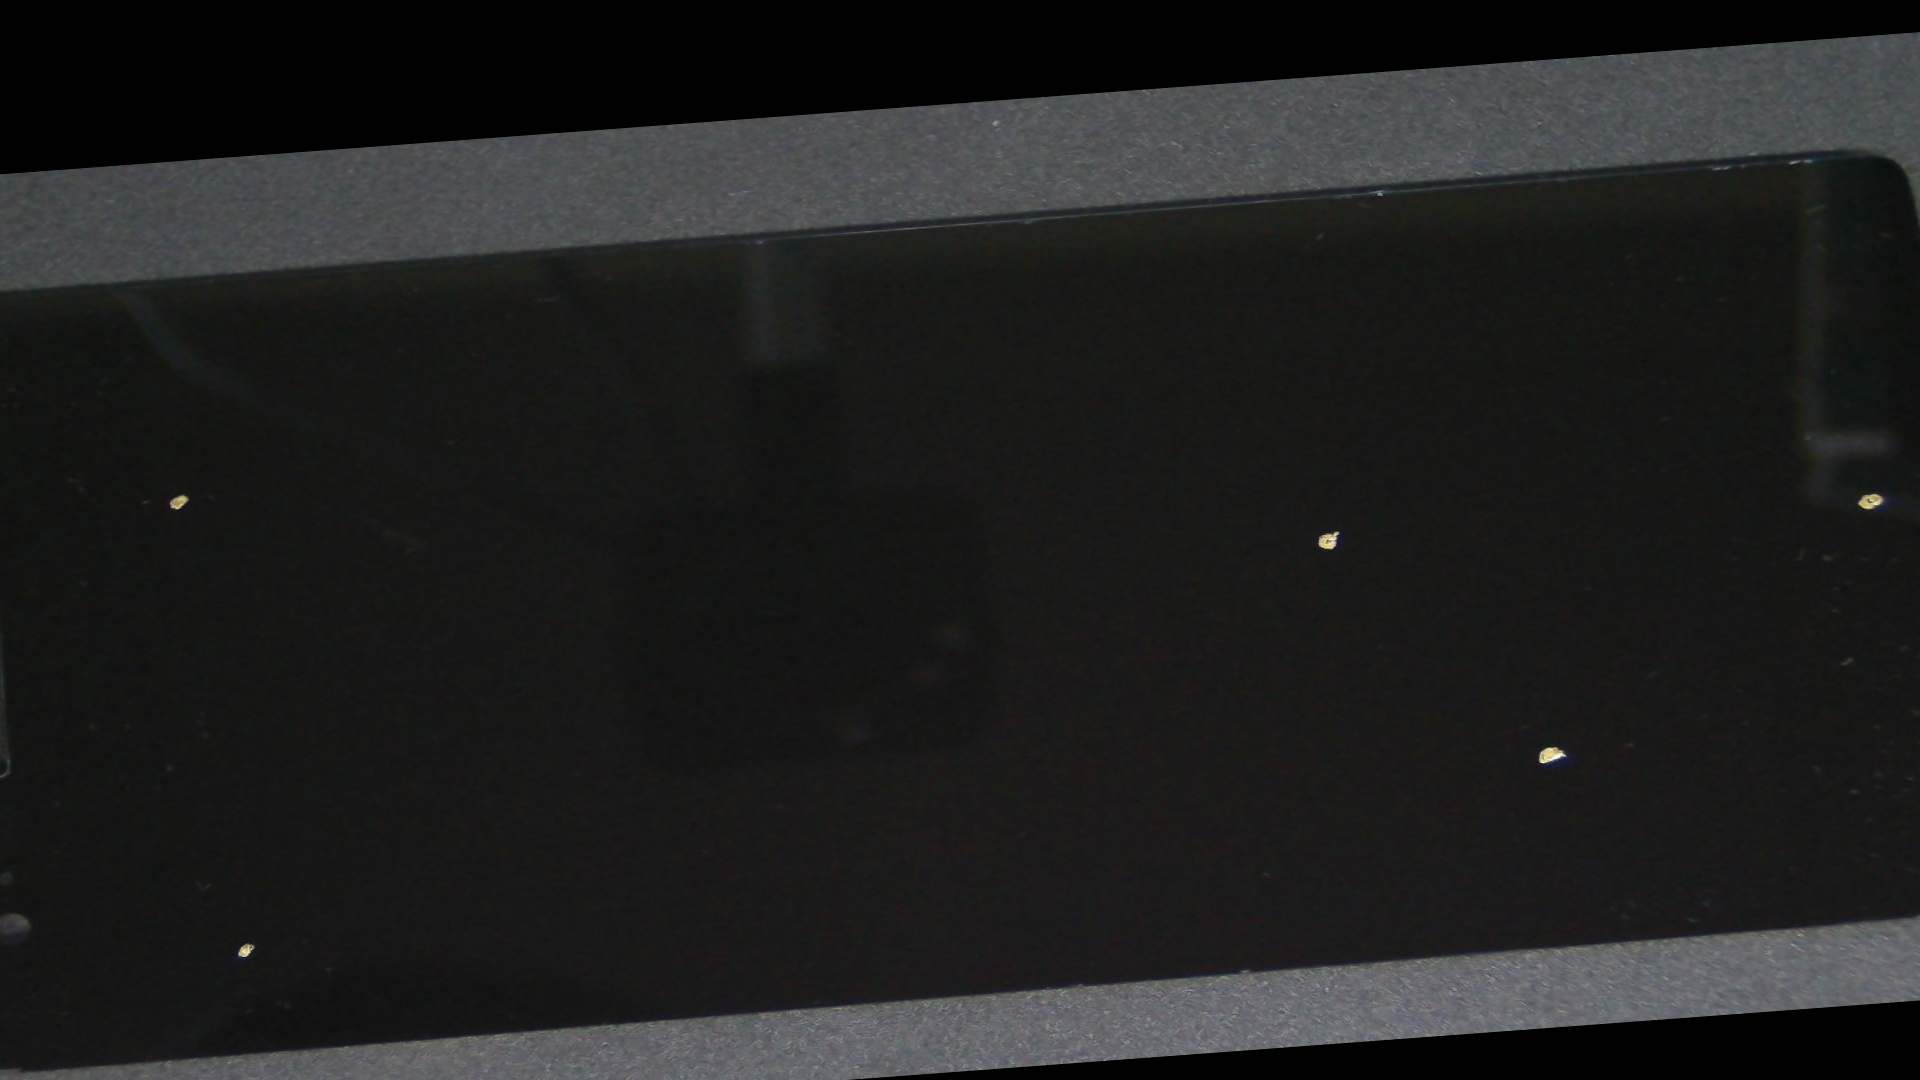oil: (642, 367, 1920, 1080), (530, 252, 1920, 815), (803, 253, 1920, 798), (0, 533, 488, 1080), (0, 309, 400, 678)
